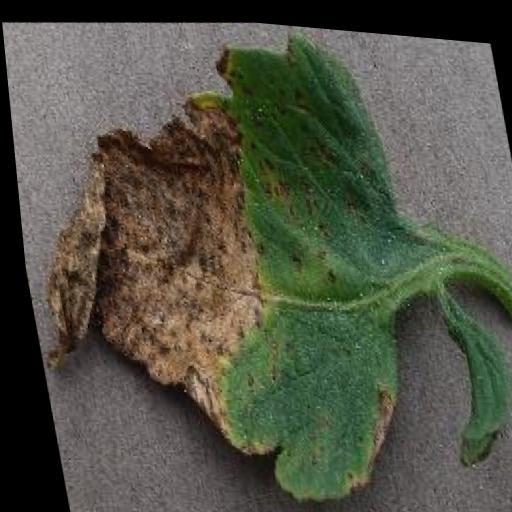Bacterial Spot: (0, 0, 449, 512)
